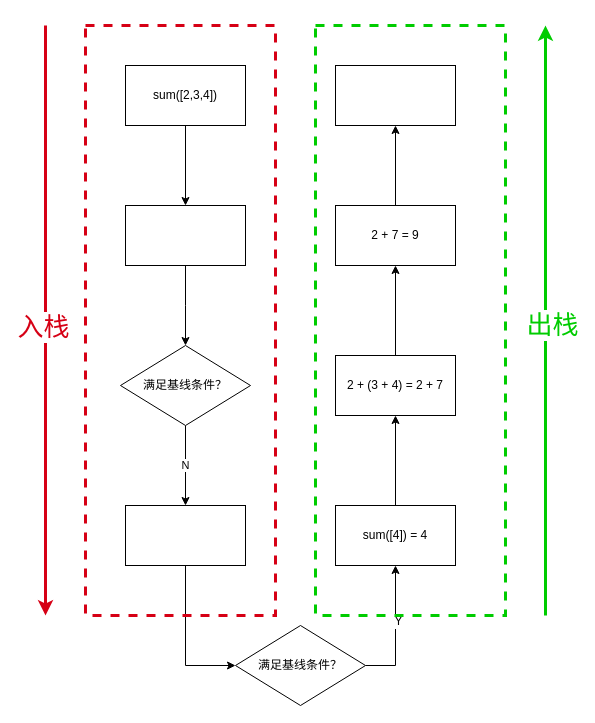
Image size: 595x723. Some labels were removed from this diagram. The shapes that lost their labels are listed below. From the top down, each one's centre as x and y in pixels, then its label:
the point at 395,95: sum([2,3,4]) = 9
the point at 185,235: 2 + sum([3,4])
the point at 185,535: 2 + (3 + sum([4]))
